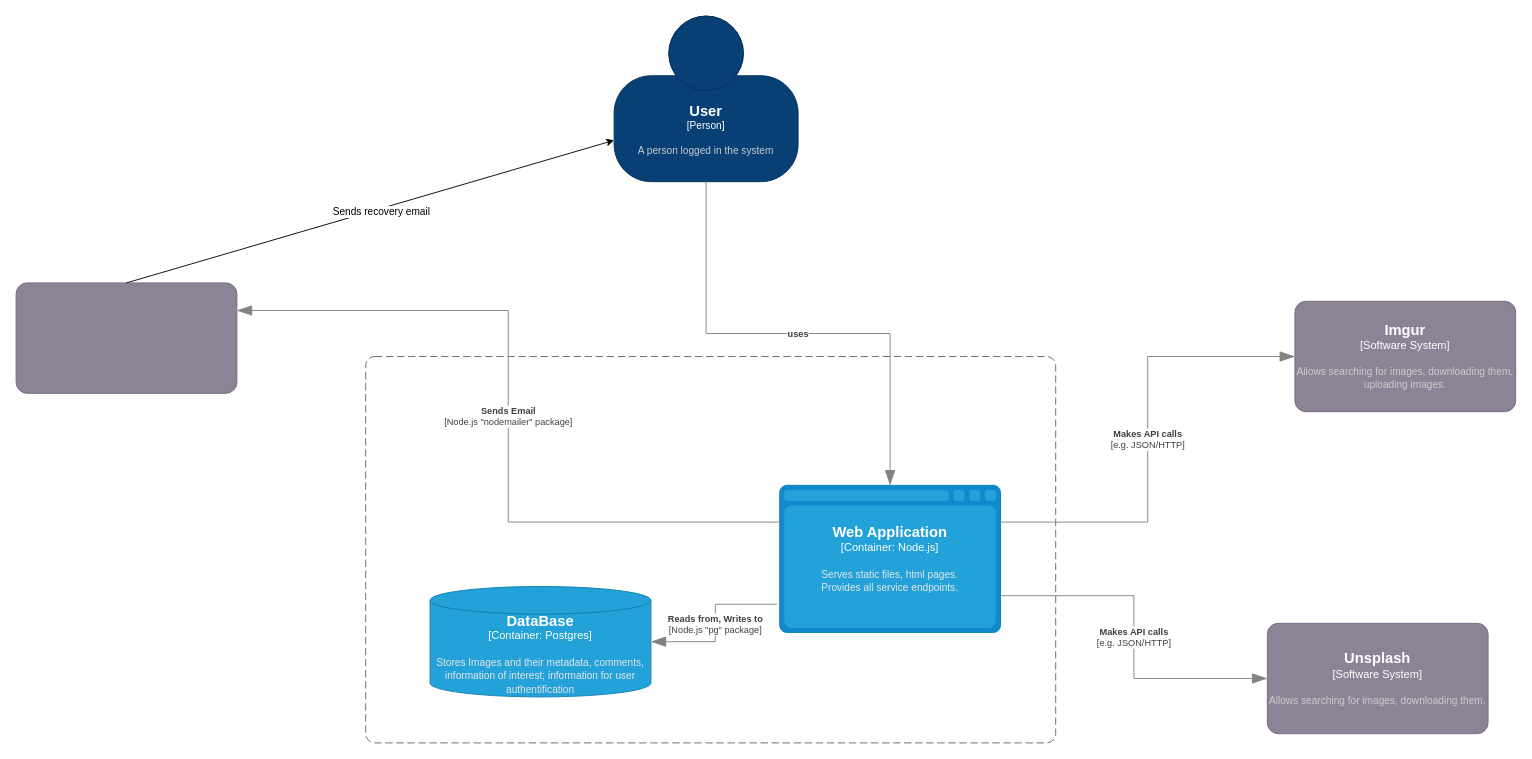
This 1532x759 diagram has some shape labels left out. The shapes that lost their labels are listed below. From the top down, each one's box as (x1, y1, x2, y2) in pixels, then its label:
(15, 282, 237, 393): Email system. [Software System] Provides email functionality.
(365, 356, 1056, 743): MPIC [Software System]
